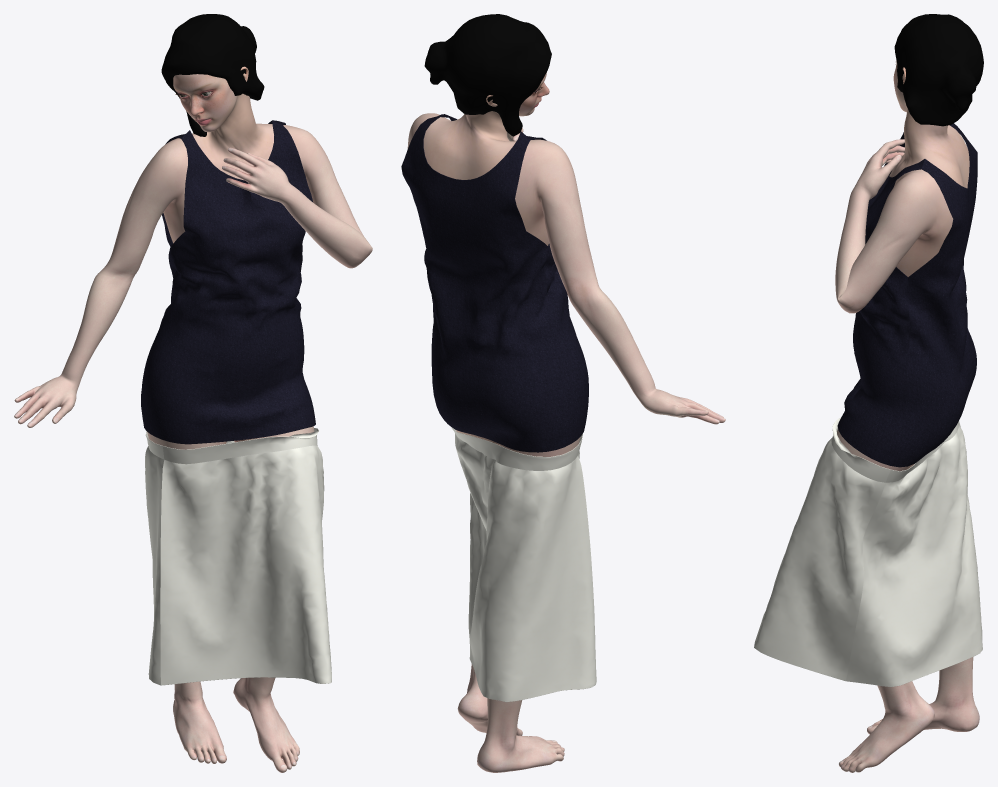
Rendered from random.obj.
The picture shows the model from 3 angles, left to right: view 1: azimuth 30°, elevation 25°; view 2: azimuth 150°, elevation 25°; view 3: azimuth 270°, elevation 25°; orthographic projection. The views are drawn at different scales.
Bounding box in the file's own units: 813 × 1767 × 500.
